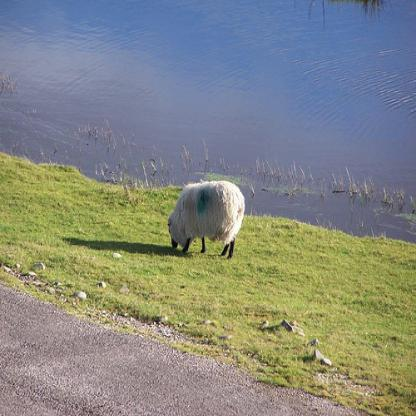sheep: (167, 176, 247, 262)
